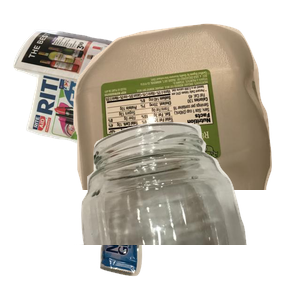glass: (74, 120, 300, 300)
paper: (11, 27, 213, 185)
plastic: (71, 21, 300, 201)
trash: (97, 152, 248, 300)
